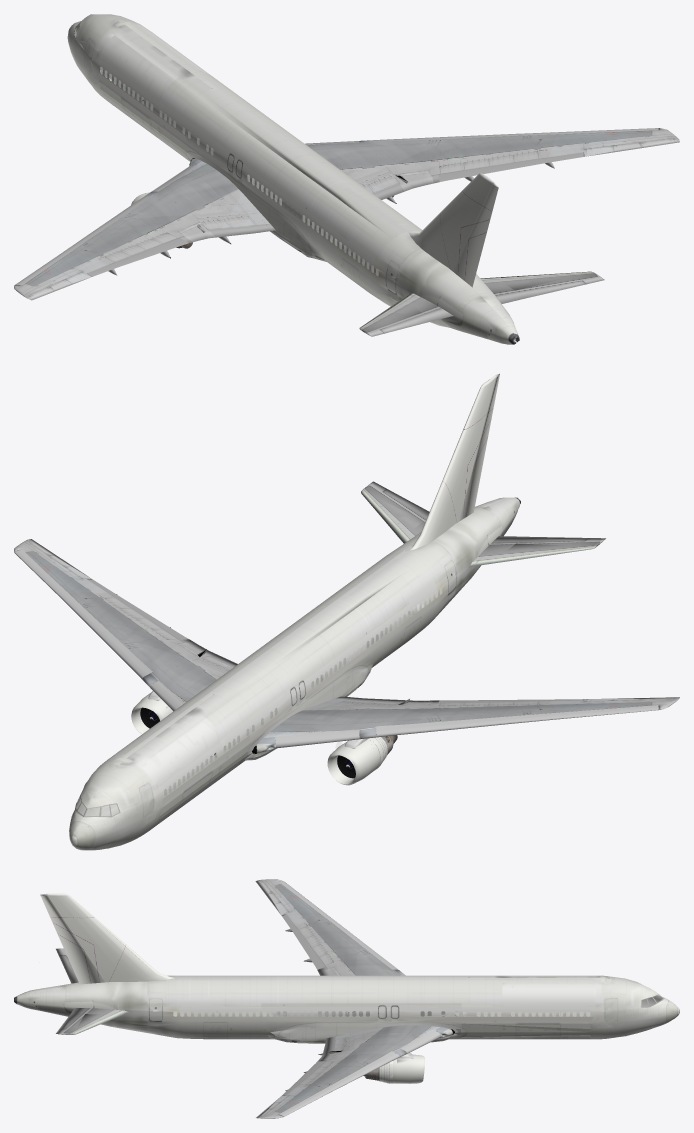
3 views of the same model, one above another, from view 1: azimuth 30°, elevation 25°; view 2: azimuth 150°, elevation 25°; view 3: azimuth 270°, elevation 25° (orthographic). The views are drawn at different scales.
Parts seen in each view (by area): view 1: Fuselage_400, RWing_005, LWing_003, VStab_003, VRudder_001, RHStab_001, LHStab_003, flap_ext_R_001, LFflapwing2_001, flapl_001, RFflapwing2_001, RHelev_001 (+5 smaller); view 2: Fuselage_400, RWing_005, LWing_003, VStab_003, LFflapwing2_001, LHStab_003, RFflapwing2_001, RHStab_001, VRudder_001, LCapaturbofan_009, LFflapwing1_001; view 3: Fuselage_400, RWing_005, VStab_003, LWing_003, VRudder_001, RFflapwing2_001, RHStab_001, RCapaturbofan_008, LFflapwing2_001, fuselage_Windows-400, flap_ext_L_001, RCapaturbofan_006.
Boxes of the visible parts, <box> form: Fuselage_400: <box>67,14,519,344</box>; RWing_005: <box>306,128,679,186</box>; LWing_003: <box>14,158,275,300</box>; VStab_003: <box>408,173,493,270</box>; VRudder_001: <box>452,184,498,287</box>; RHStab_001: <box>480,271,604,294</box>; LHStab_003: <box>359,293,439,336</box>; flap_ext_R_001: <box>438,153,583,181</box>; LFflapwing2_001: <box>15,196,152,285</box>; flapl_001: <box>196,218,270,238</box>; RFflapwing2_001: <box>376,128,658,141</box>; RHelev_001: <box>494,280,586,303</box>; Fuselage_400: <box>69,497,520,850</box>; RWing_005: <box>14,539,227,703</box>; LWing_003: <box>252,696,679,753</box>; VStab_003: <box>410,375,495,550</box>; LFflapwing2_001: <box>376,705,658,737</box>; LHStab_003: <box>469,538,605,567</box>; RFflapwing2_001: <box>15,550,152,678</box>; RHStab_001: <box>361,481,425,543</box>; VRudder_001: <box>459,375,499,521</box>; LCapaturbofan_009: <box>327,741,377,785</box>; LFflapwing1_001: <box>275,730,359,748</box>; Fuselage_400: <box>14,975,679,1043</box>; RWing_005: <box>256,1025,454,1118</box>; VStab_003: <box>47,893,174,982</box>; LWing_003: <box>255,879,445,1016</box>; VRudder_001: <box>40,895,105,984</box>; RFflapwing2_001: <box>279,1051,399,1116</box>; RHStab_001: <box>56,1008,129,1034</box>; RCapaturbofan_008: <box>397,1054,424,1083</box>; LFflapwing2_001: <box>279,881,398,969</box>; fuselage_Windows-400: <box>174,1012,589,1015</box>; flap_ext_L_001: <box>282,914,325,969</box>; RCapaturbofan_006: <box>379,1059,397,1083</box>.
Size of what is drawn, in the model's own units: 51.78 by 61.06 by 15.47.
23 materials, 17 textured.
